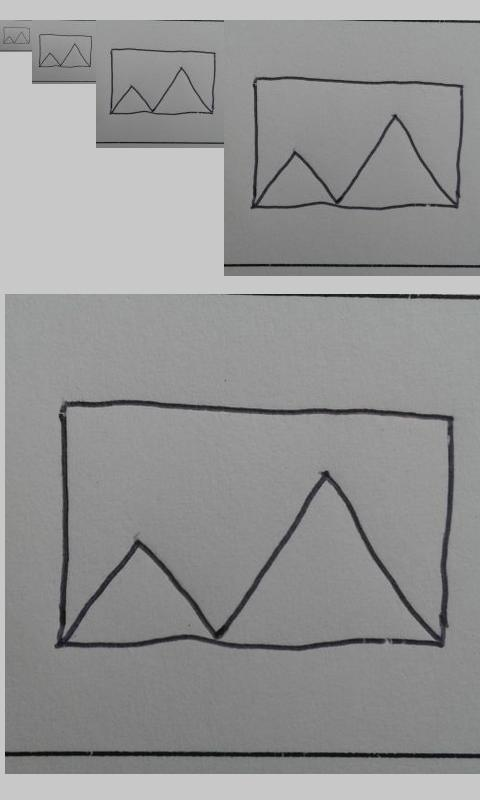image_view: (56, 398, 457, 655), (250, 69, 465, 213), (109, 48, 217, 115), (38, 34, 94, 68), (2, 26, 31, 45)
